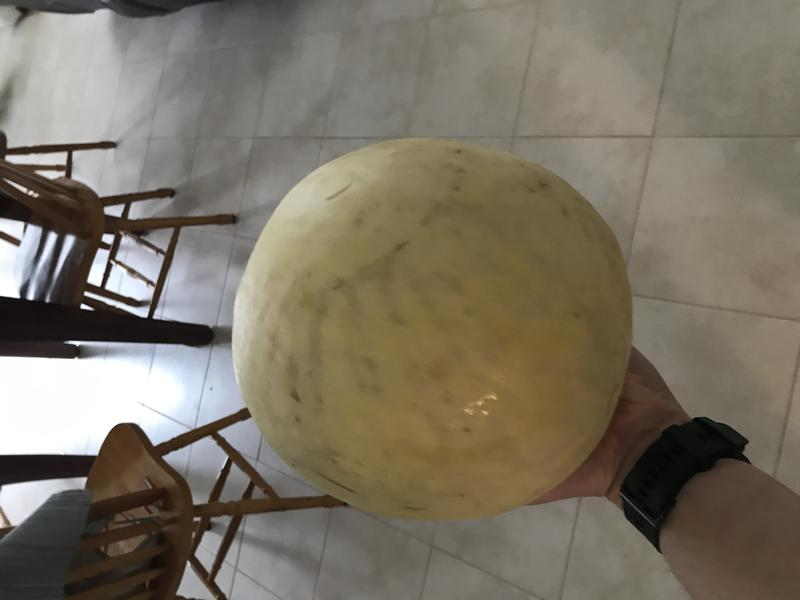honeydew: (228, 133, 643, 531)
